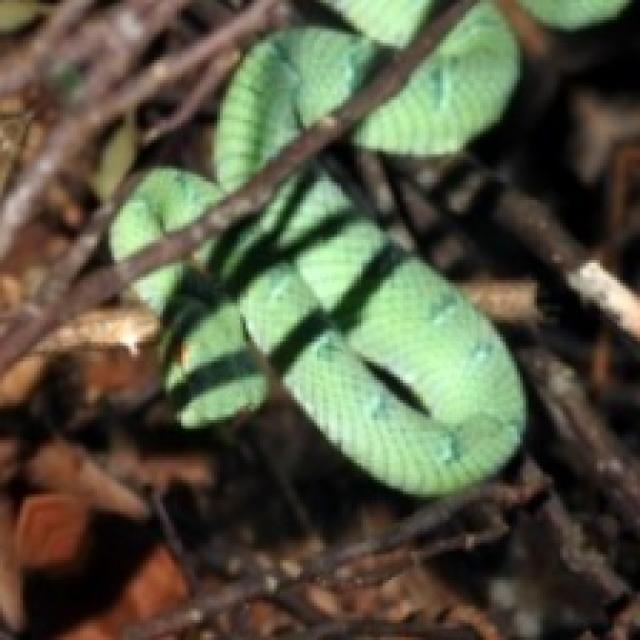north ph temple pitviper: (137, 166, 523, 494), (143, 169, 523, 494), (111, 3, 426, 257), (354, 3, 514, 151), (111, 169, 220, 254)
